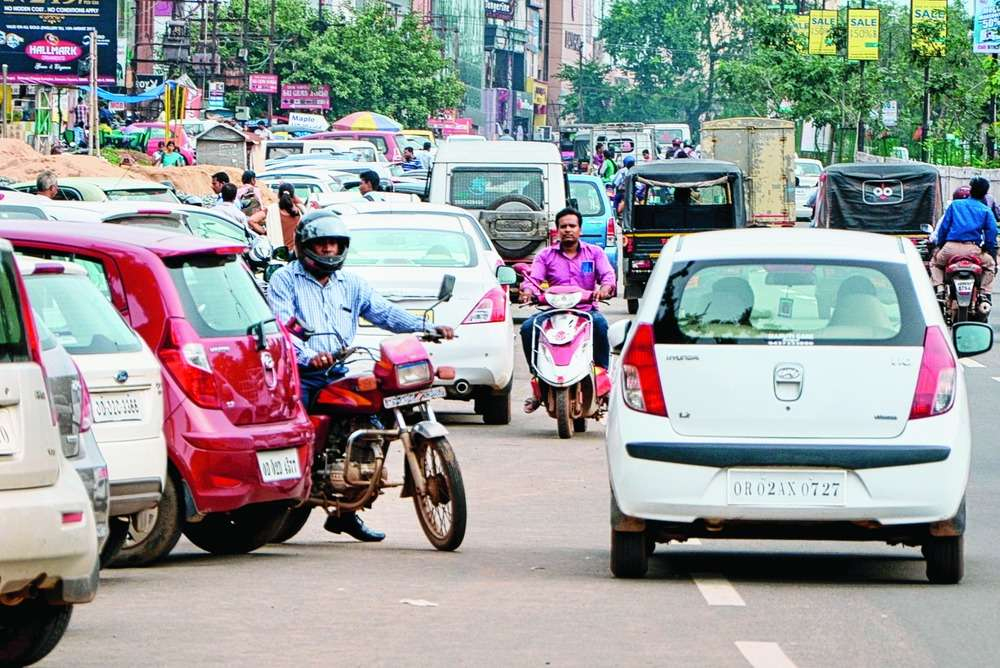helmet: (294, 211, 354, 275)
